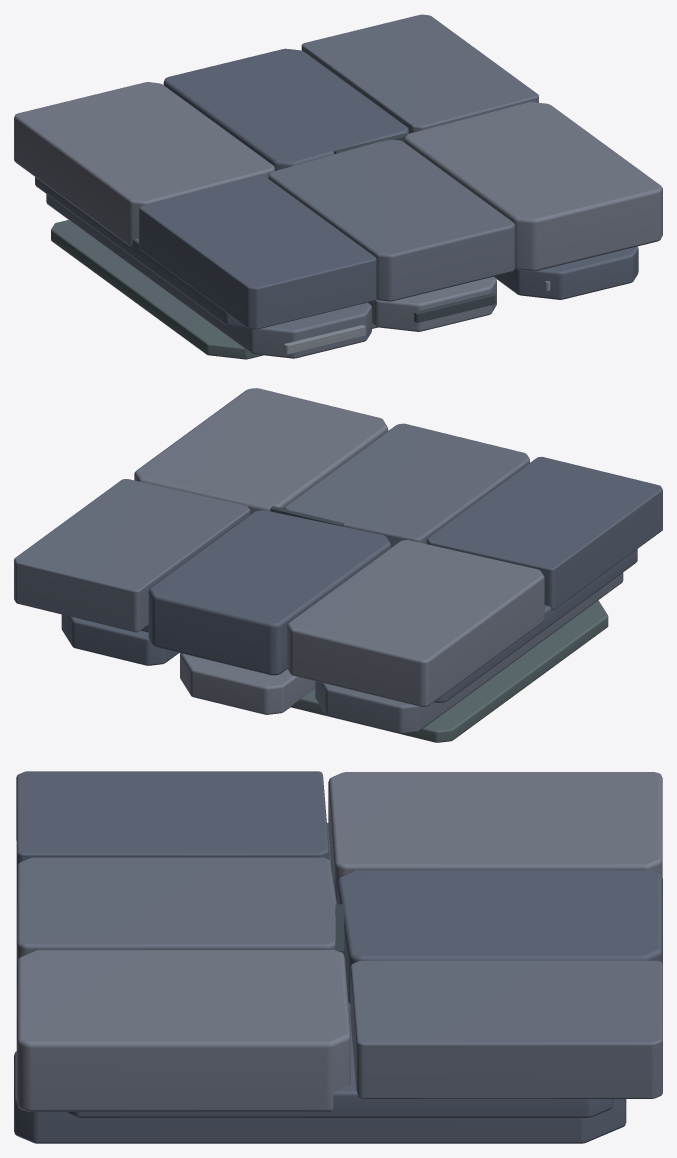
File: BG_ENV_INNER_FLOOR_001.glb
3 views of the same model, one above another, from view 1: azimuth 30°, elevation 25°; view 2: azimuth 150°, elevation 25°; view 3: azimuth 270°, elevation 25° (orthographic). The views are drawn at different scales.
Visible parts, largest first — view 1: BG_ENV_INNER_FLOOR_001_mesh, Cold mirror side insert 1_game, Cold mirror side insert 0_game; view 2: BG_ENV_INNER_FLOOR_001_mesh; view 3: BG_ENV_INNER_FLOOR_001_mesh.
Part boxes in pixels (box(x1,y1,x2,y2)): BG_ENV_INNER_FLOOR_001_mesh: box(14, 14, 662, 359); Cold mirror side insert 1_game: box(414, 293, 495, 322); Cold mirror side insert 0_game: box(284, 325, 365, 354); BG_ENV_INNER_FLOOR_001_mesh: box(14, 388, 662, 742); BG_ENV_INNER_FLOOR_001_mesh: box(14, 771, 662, 1143).
Size of the model in its own units: 0.9926 by 0.24 by 0.9962.
Materials: 4 (1 with a texture image).
